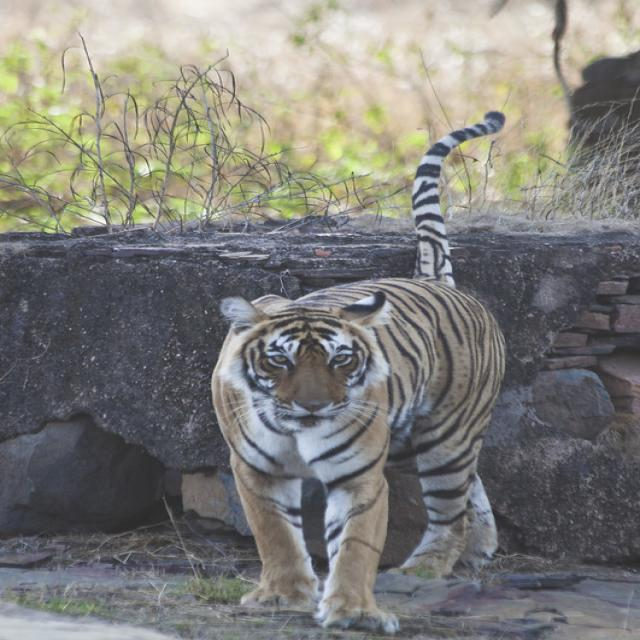Tiger: (209, 186, 505, 631)
